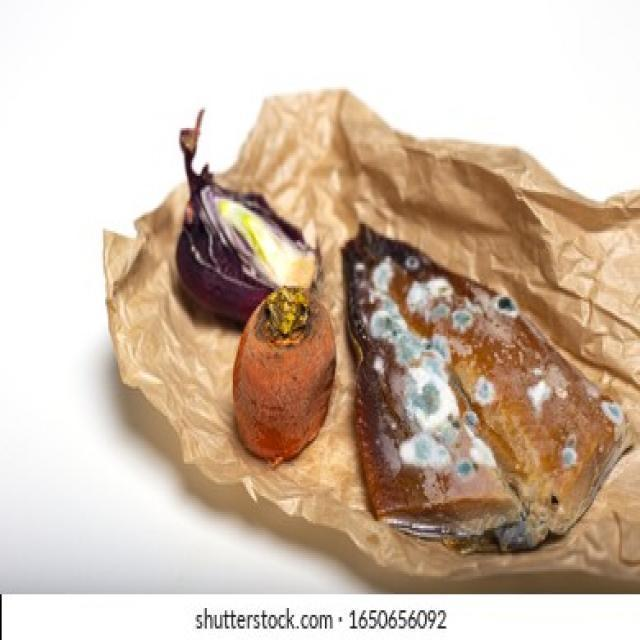Onion: (173, 106, 322, 324)
